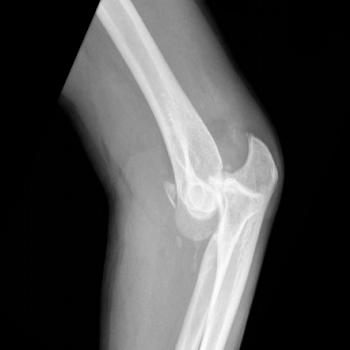Fracture: (211, 115, 253, 191)
